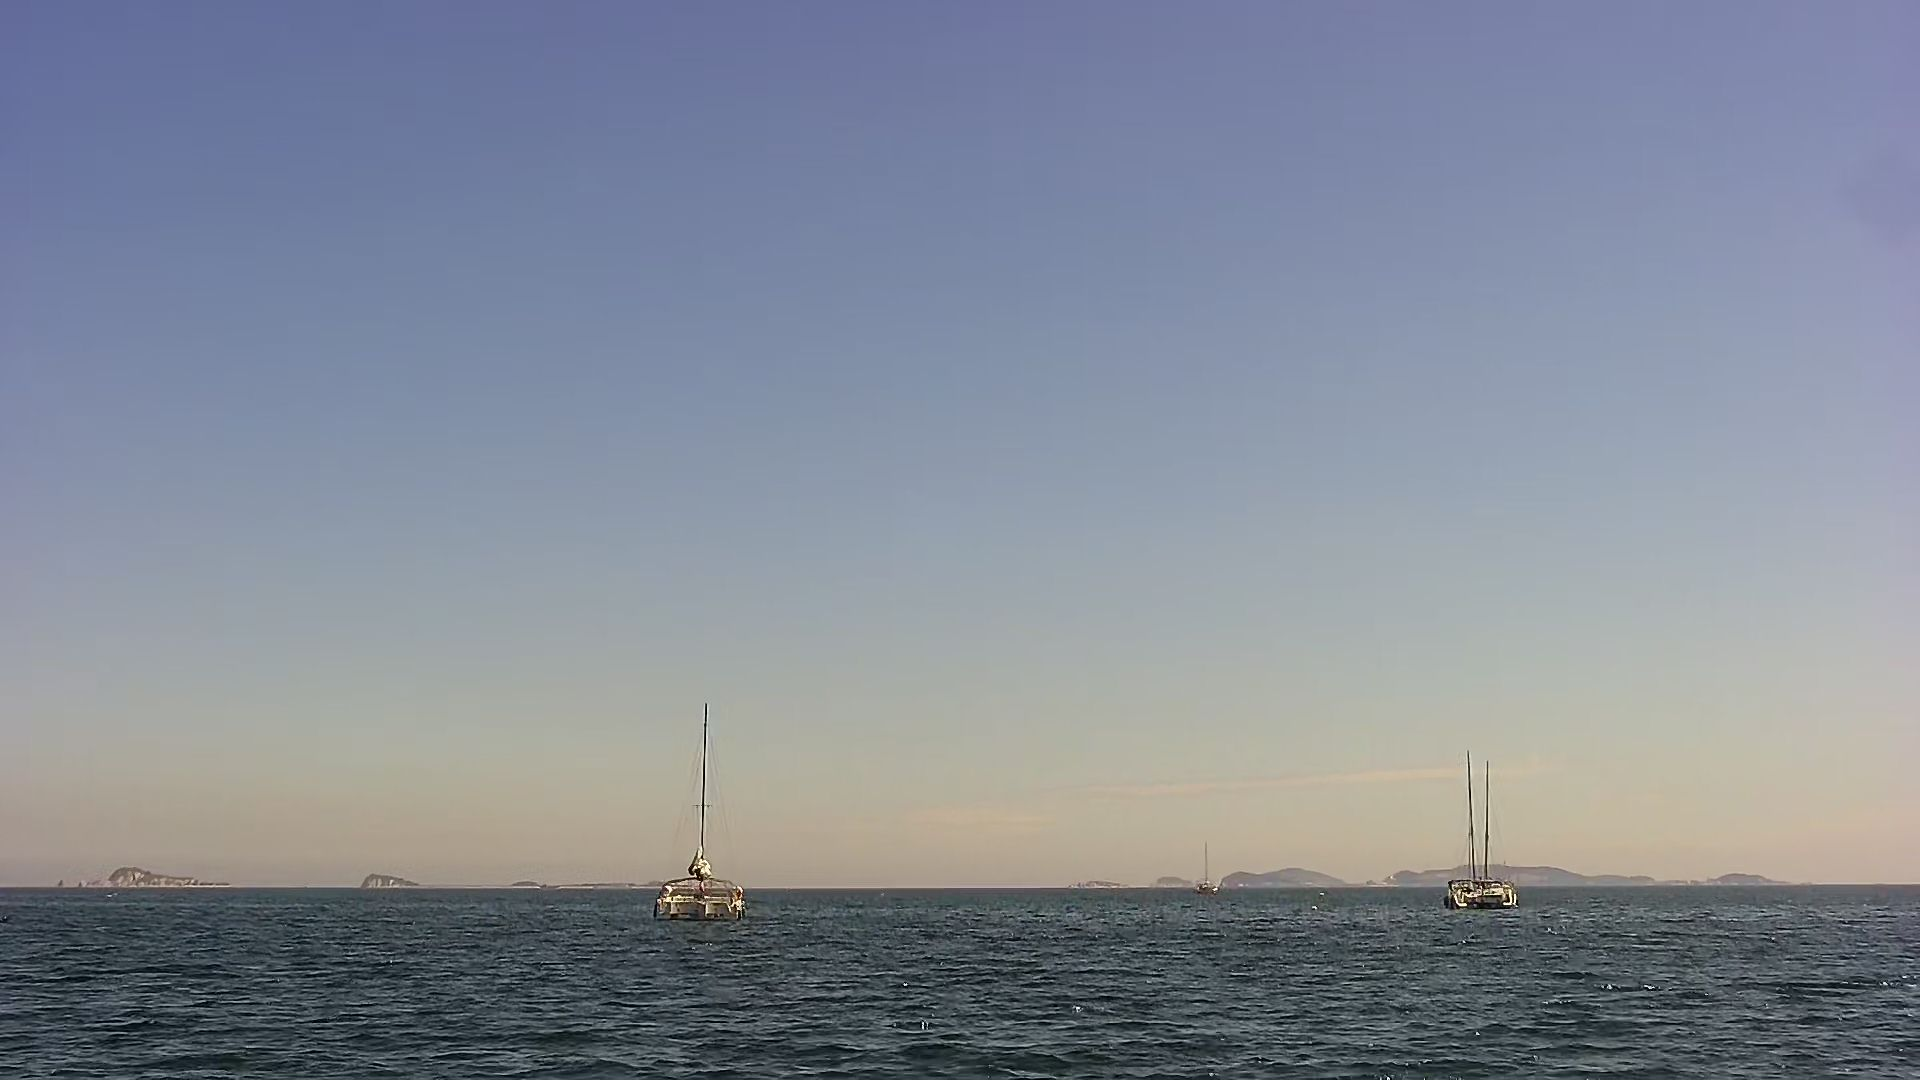boat: (645, 696, 761, 930), (1439, 746, 1526, 915), (1197, 833, 1222, 903)
rock: (1395, 847, 1658, 887), (1217, 853, 1377, 887), (98, 866, 233, 889), (1702, 860, 1785, 887), (505, 876, 663, 890), (352, 873, 423, 891), (1071, 868, 1131, 885), (1143, 872, 1189, 893)
